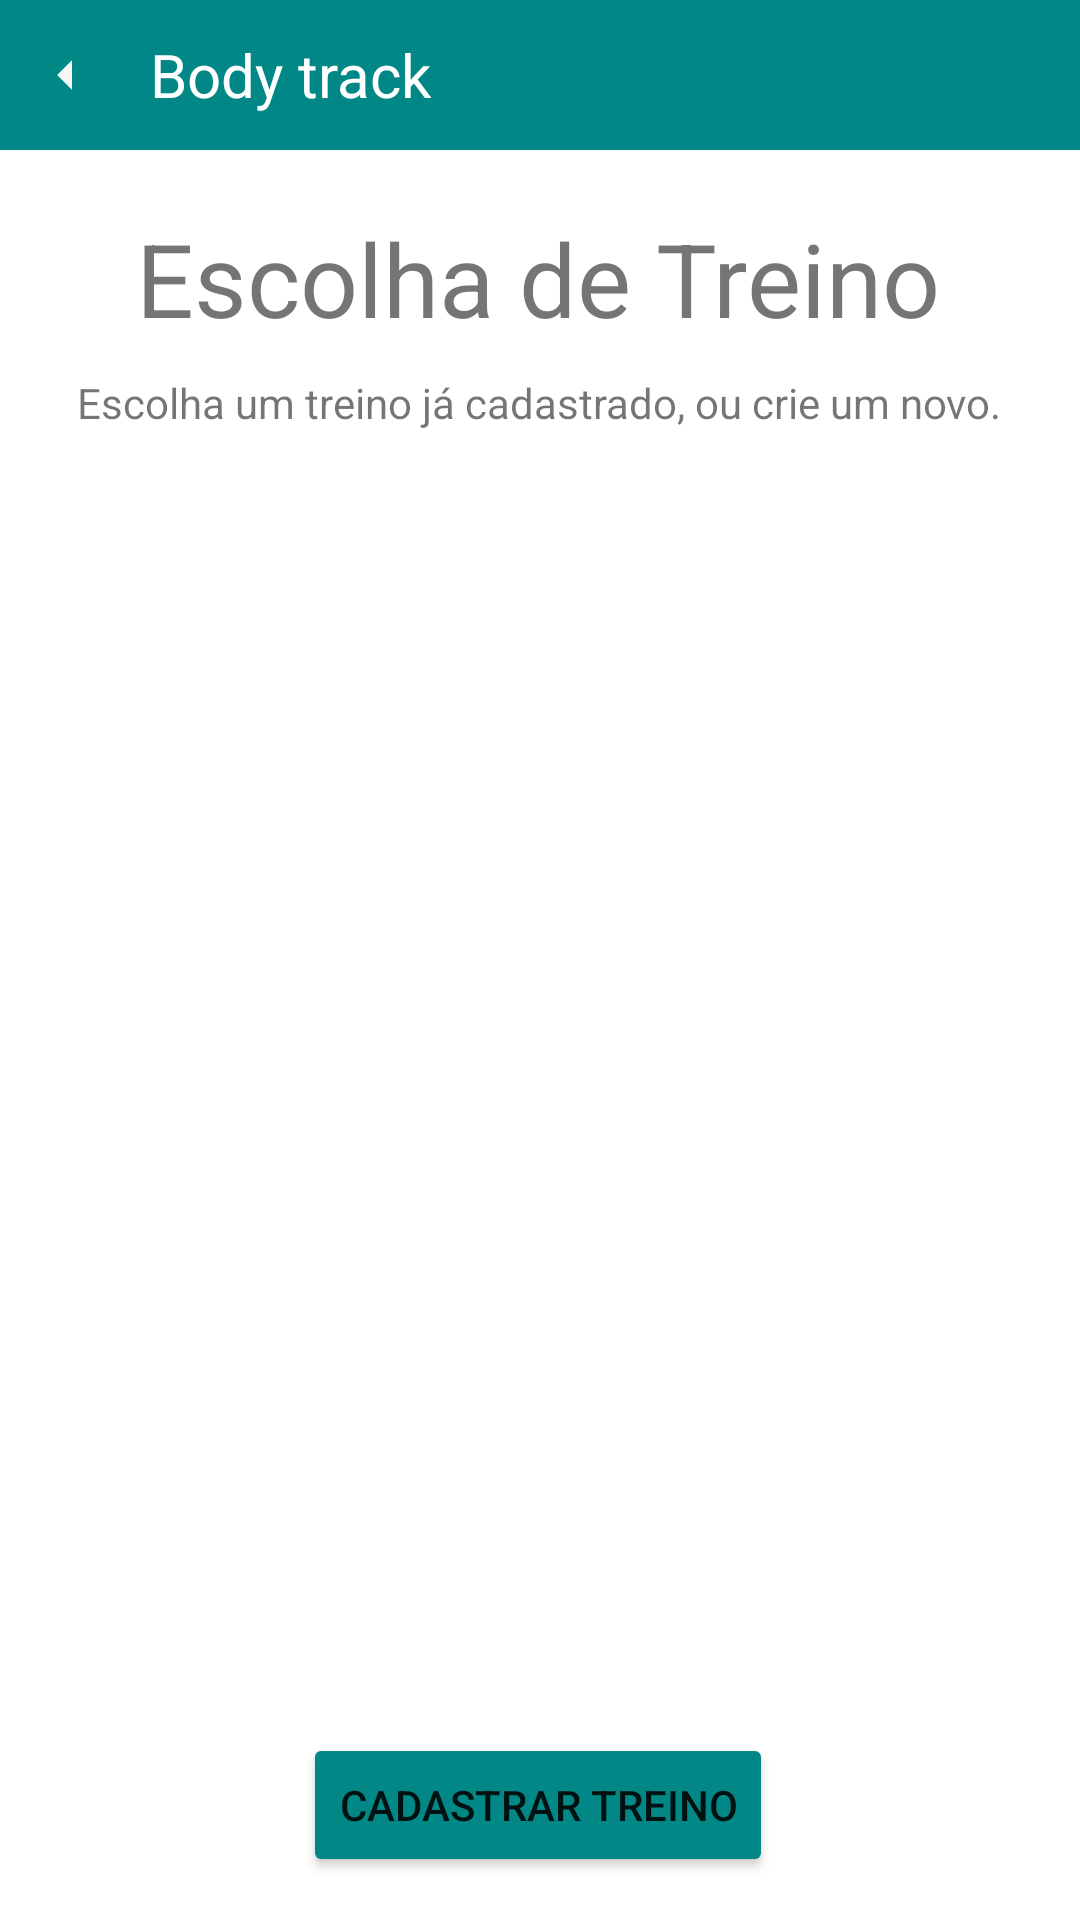

Named icons in this screenshot (1080 x 1920) and their centers, (x=x, y=y):
arrow left: (x=64, y=75)
